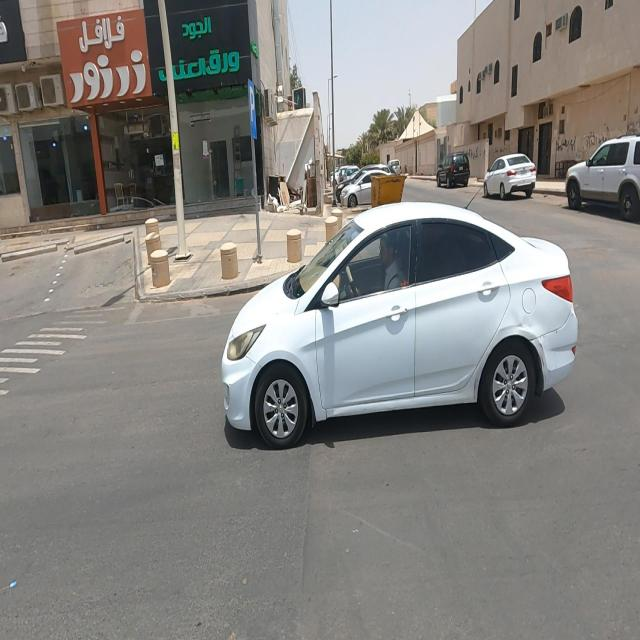Graffiti: (582, 127, 615, 154), (556, 135, 579, 154), (491, 144, 506, 158), (466, 147, 481, 159)
